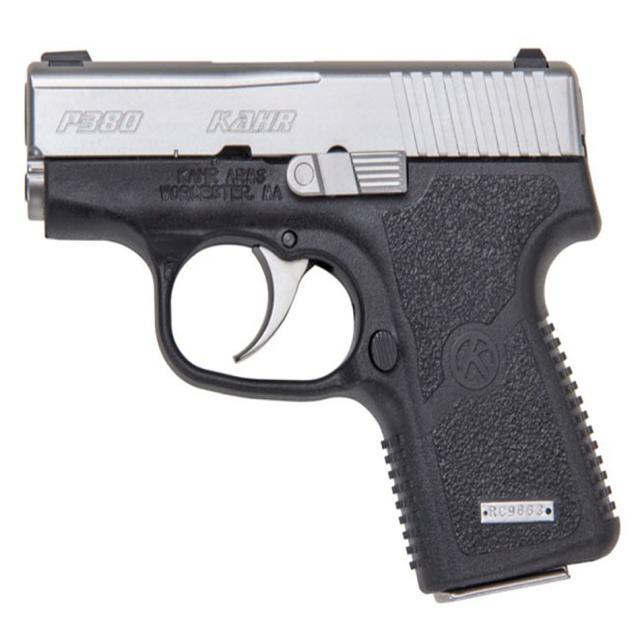Pistol: (14, 30, 631, 624)
